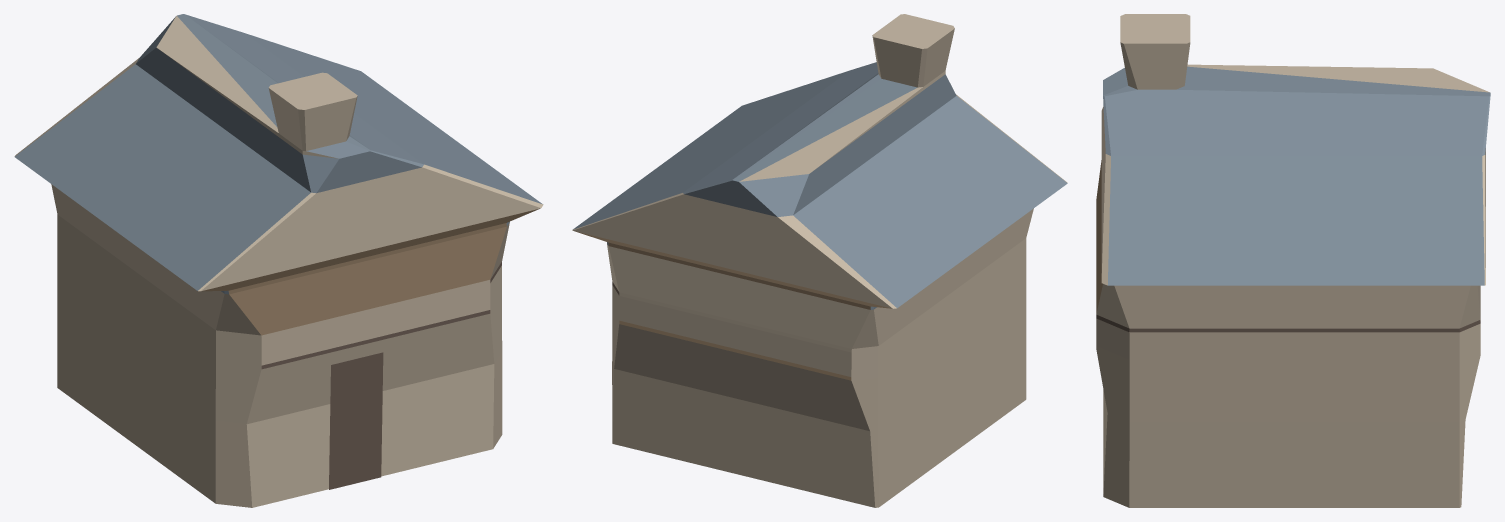
Rendered from loin.glb.
3 renders of one model, left to right at view 1: azimuth 30°, elevation 25°; view 2: azimuth 150°, elevation 25°; view 3: azimuth 270°, elevation 25°, orthographic. The views are drawn at different scales.
Parts seen in each view (by area): view 1: loin; view 2: loin; view 3: loin.
Part boxes in pixels (<box>): loin: <box>14,14,543,507</box>; loin: <box>572,14,1067,507</box>; loin: <box>1096,14,1490,507</box>.
Size of the model in its own units: 0.9094 by 0.9418 by 0.8629.
